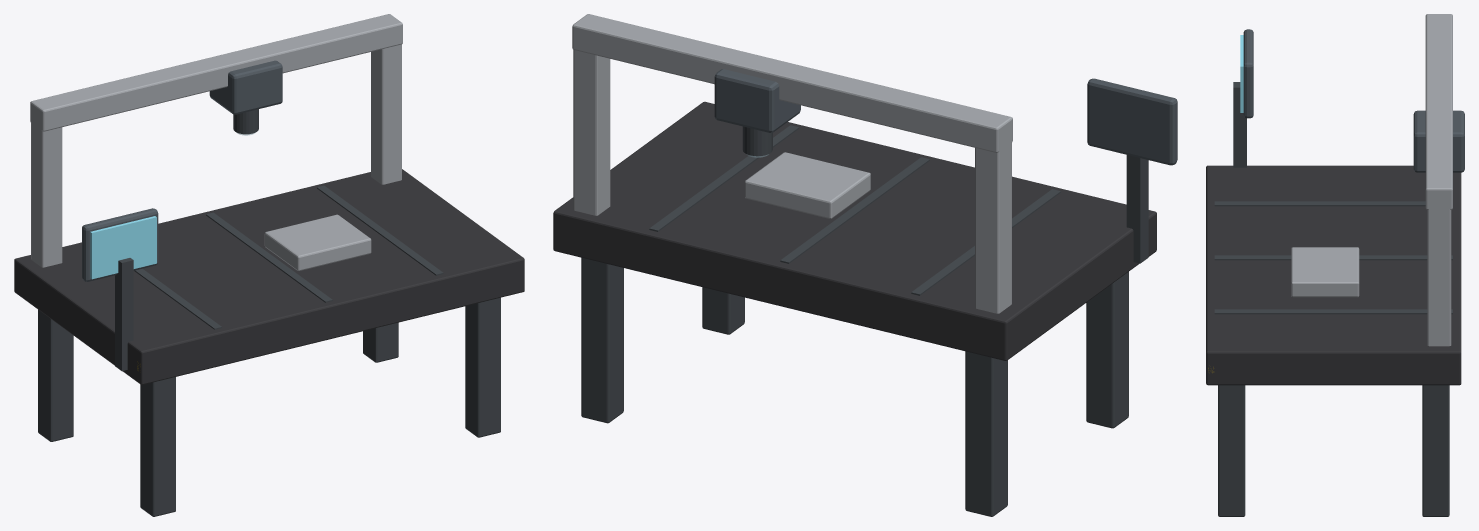
The model's file is inspection.glb.
The picture shows the model from 3 angles, left to right: view 1: azimuth 30°, elevation 25°; view 2: azimuth 150°, elevation 25°; view 3: azimuth 270°, elevation 25°; orthographic projection. The views are drawn at different scales.
Parts seen in each view (by area): view 1: ins_table, ins_beam, ins_leg_1_-1, ins_leg_-1_-1, ins_col_-1, ins_leg_-1_1, ins_col_1, ins_fixture, ins_screen_glass, ins_carriage, ins_screen_post, ins_screen (+4 smaller); view 2: ins_table, ins_beam, ins_leg_1_1, ins_leg_-1_1, ins_screen, ins_col_1, ins_col_-1, ins_leg_-1_-1, ins_fixture, ins_carriage, ins_screen_post, ins_leg_1_-1 (+4 smaller); view 3: ins_table, ins_beam, ins_leg_1_1, ins_leg_1_-1, ins_fixture, ins_col_1, ins_carriage, ins_slot_1, ins_slot_-1, ins_screen_post, ins_screen, ins_slot_0 (+1 smaller).
Boxes of the visible parts, bbox=[...] form: ins_table: bbox=[14, 169, 524, 384]; ins_beam: bbox=[30, 14, 402, 131]; ins_leg_1_-1: bbox=[465, 297, 500, 437]; ins_leg_-1_-1: bbox=[140, 377, 175, 516]; ins_col_-1: bbox=[31, 122, 62, 267]; ins_leg_-1_1: bbox=[38, 309, 73, 441]; ins_col_1: bbox=[371, 44, 401, 184]; ins_fixture: bbox=[264, 214, 371, 270]; ins_screen_glass: bbox=[90, 216, 156, 279]; ins_carriage: bbox=[209, 60, 282, 114]; ins_screen_post: bbox=[115, 258, 133, 370]; ins_screen: bbox=[82, 208, 158, 281]; ins_table: bbox=[553, 101, 1156, 360]; ins_beam: bbox=[572, 14, 1012, 152]; ins_leg_1_1: bbox=[581, 257, 623, 423]; ins_leg_-1_1: bbox=[965, 351, 1007, 516]; ins_screen: bbox=[1087, 78, 1177, 165]; ins_col_1: bbox=[573, 50, 610, 215]; ins_col_-1: bbox=[975, 142, 1011, 313]; ins_leg_-1_-1: bbox=[1086, 272, 1128, 428]; ins_fixture: bbox=[745, 152, 870, 218]; ins_carriage: bbox=[714, 69, 800, 132]; ins_screen_post: bbox=[1126, 155, 1148, 263]; ins_leg_1_-1: bbox=[702, 287, 744, 334]; ins_table: bbox=[1206, 165, 1461, 385]; ins_beam: bbox=[1425, 14, 1452, 209]; ins_leg_1_1: bbox=[1422, 385, 1449, 516]; ins_leg_1_-1: bbox=[1218, 385, 1245, 516]; ins_fixture: bbox=[1291, 247, 1359, 297]; ins_col_1: bbox=[1427, 201, 1451, 346]; ins_carriage: bbox=[1413, 110, 1464, 172]; ins_slot_1: bbox=[1214, 309, 1452, 314]; ins_slot_-1: bbox=[1214, 201, 1425, 206]; ins_screen_post: bbox=[1233, 82, 1246, 167]; ins_screen: bbox=[1243, 29, 1253, 118]; ins_slot_0: bbox=[1214, 255, 1452, 260].
Size of the model in its own units: 2.85 by 2.15 by 1.52.
